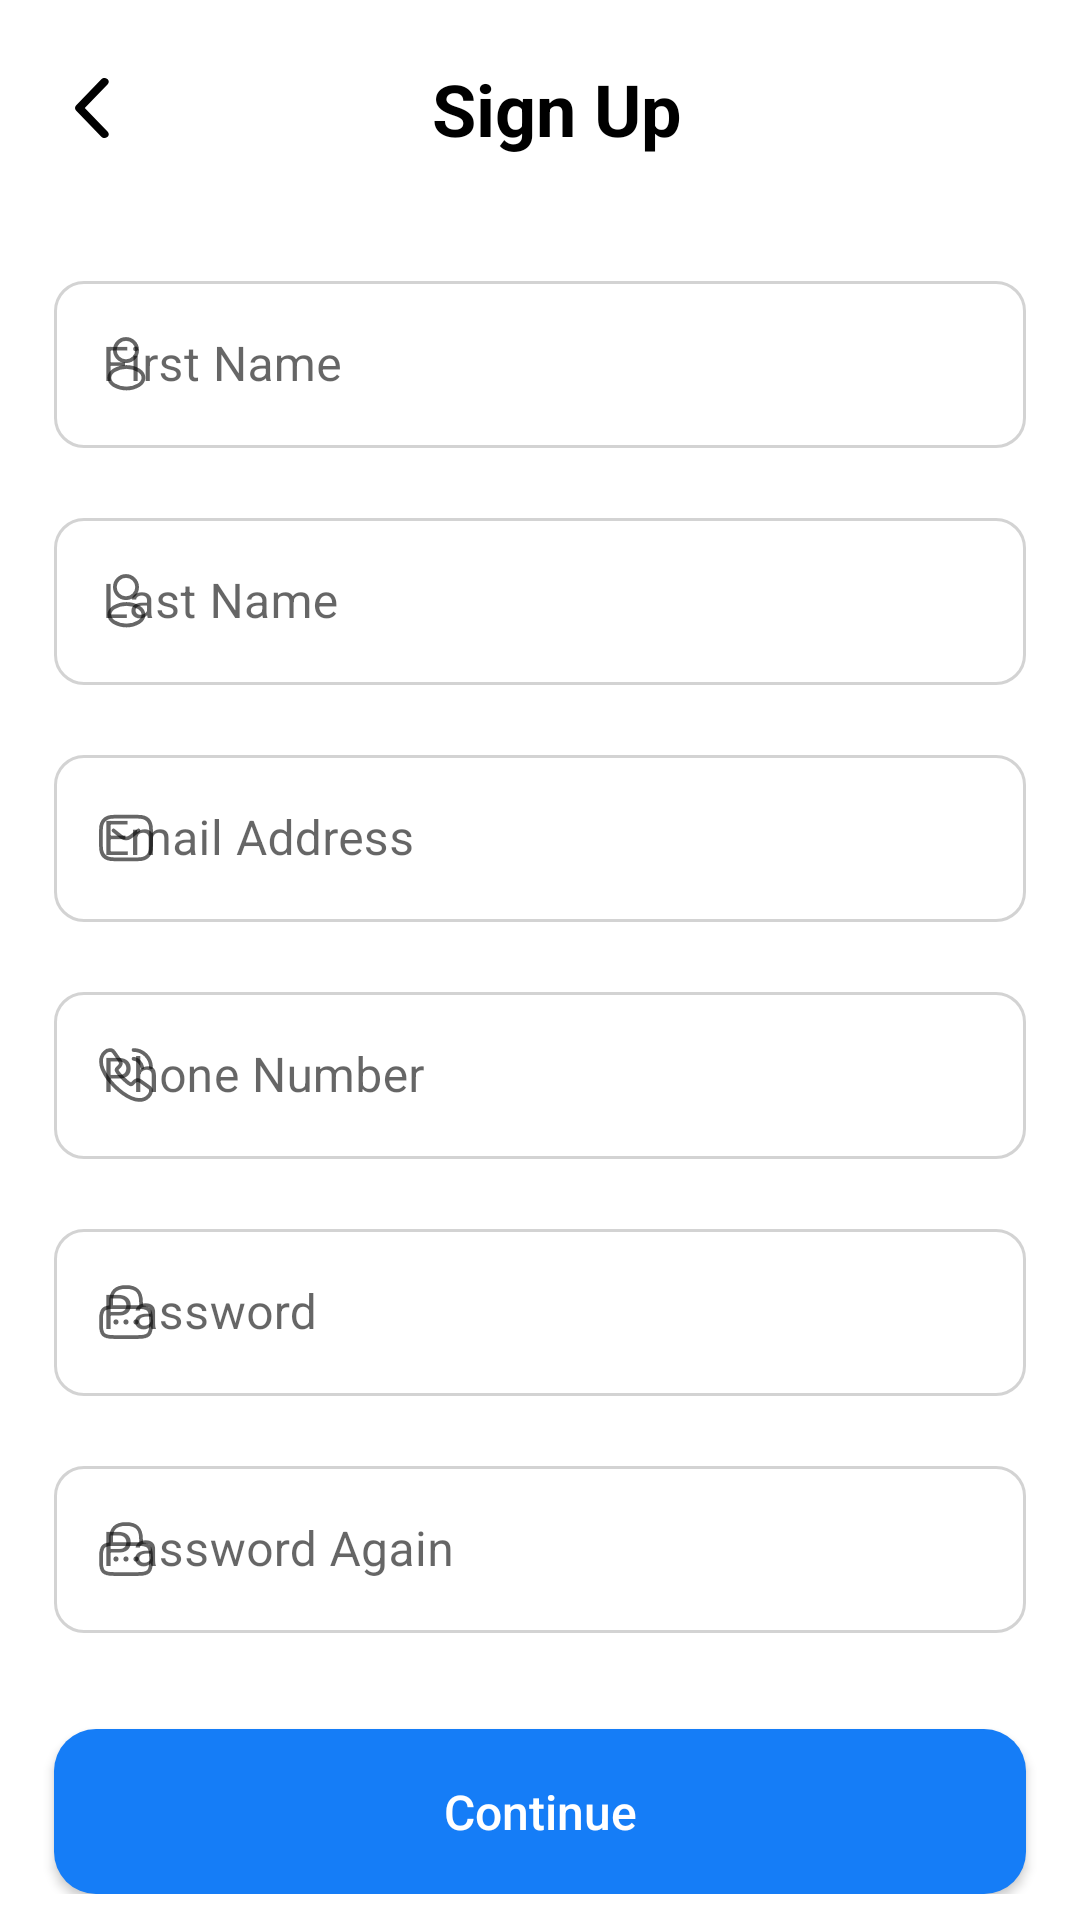

Screen size 1080x1920. Icon name, then its center in pixels as point (x, y):
back: point (92, 108)
